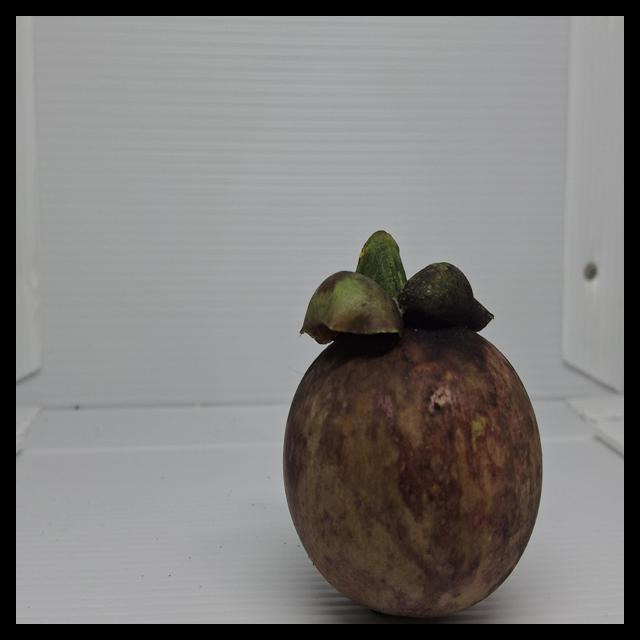mangosteen: (230, 241, 591, 624)
